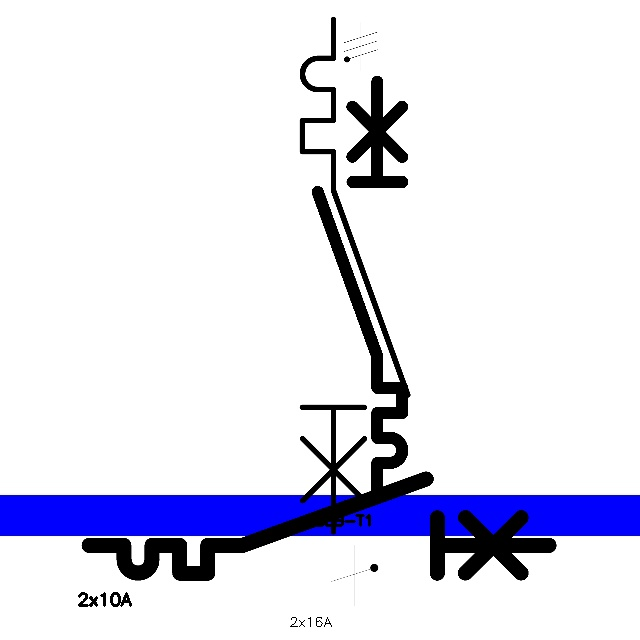interruptor_termomagnetico: (289, 6, 421, 545), (77, 467, 561, 585), (307, 71, 413, 505)
